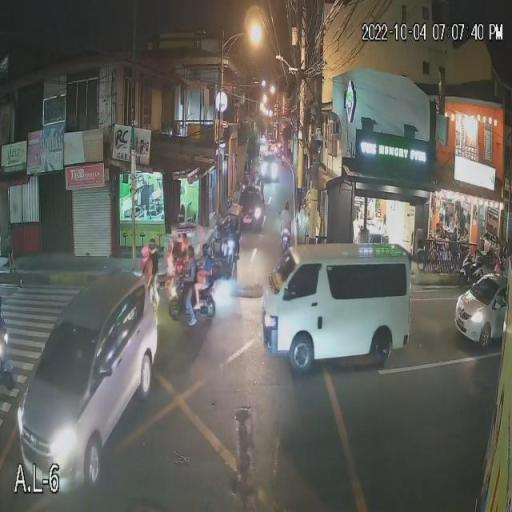helmet: (140, 247, 150, 266), (200, 244, 211, 258), (186, 246, 195, 260), (150, 240, 158, 253)
motorcycle: (171, 281, 216, 318)
rider: (184, 248, 197, 327), (198, 244, 212, 290), (140, 258, 152, 297), (152, 251, 160, 272)
